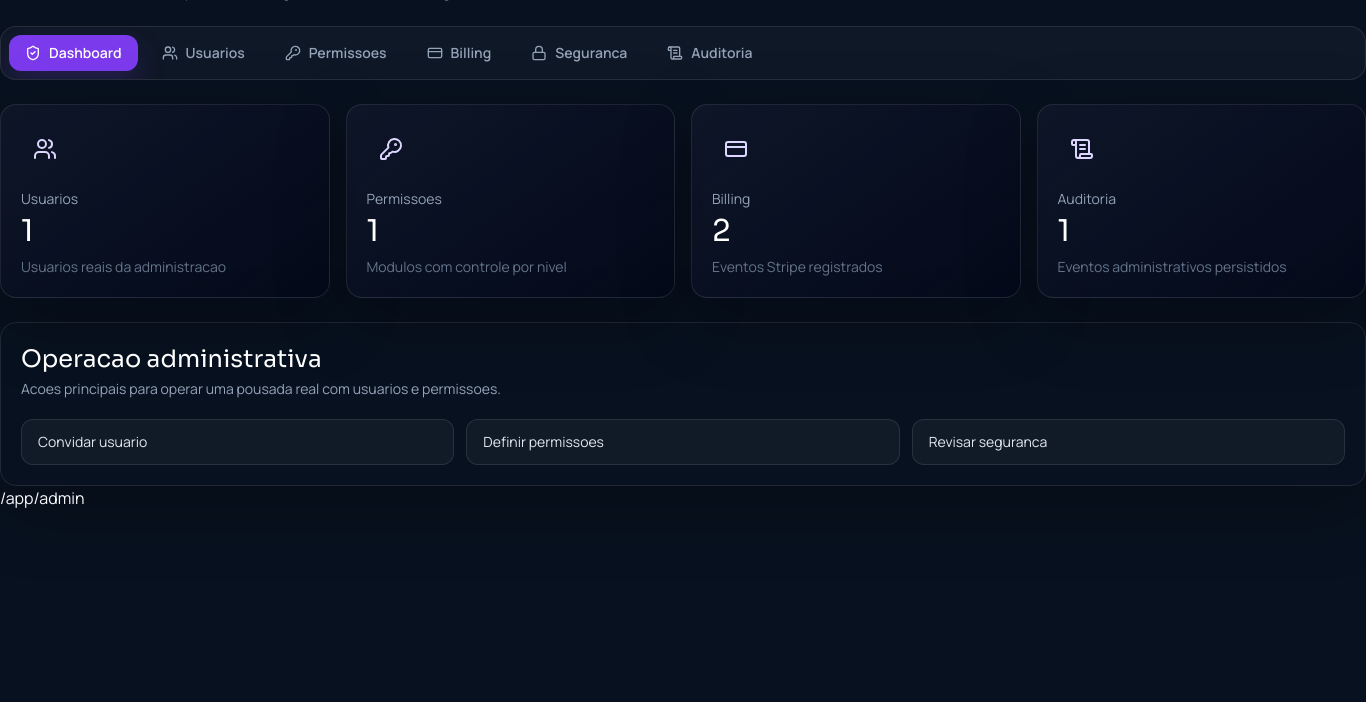
Test: AdminPage › navega pelos botoes principais usando a URL da Administracao
Expected: the heading "Operacao administrativa" is shown, [21,344,322,374]
What coordinates should you click on to do the following:
click the button "Billing"
I would click on:
 (459, 53)
Its box is [411,35,507,71].
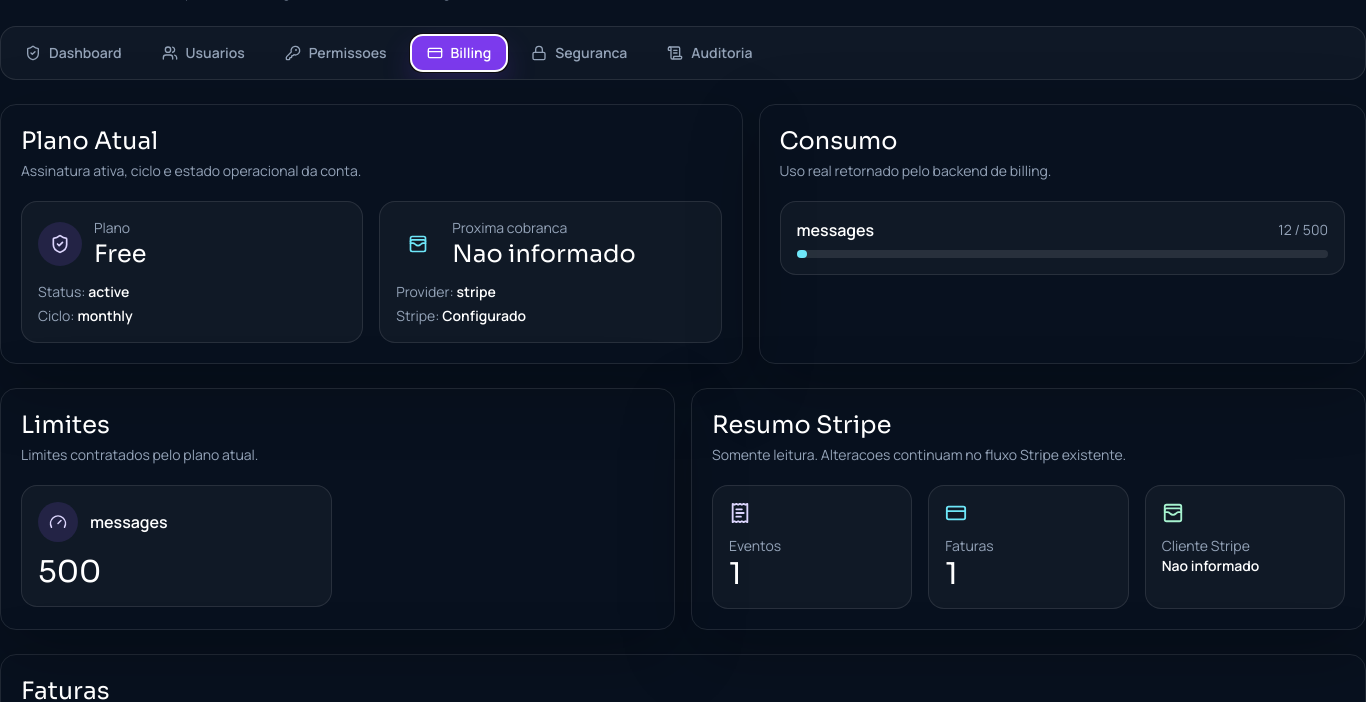
Expected: the heading "Plano Atual" is shown, [21,126,158,156]
Expected: the heading "Resumo Stripe" is shown, [712,410,891,440]
What coordinates should you click on to do the following:
click the button "Usuarios"
I would click on:
 (203, 53)
Its box is [146,35,261,71].
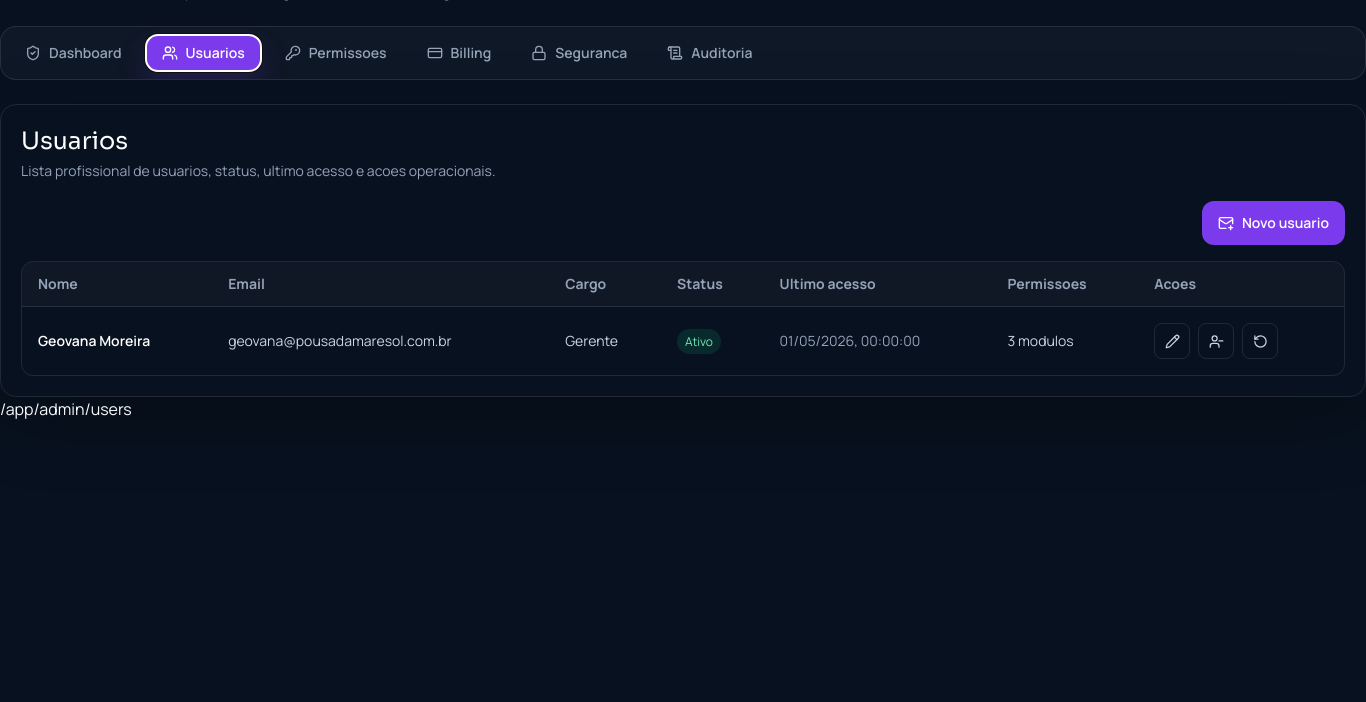
Expected: the text with test id "location" reads "/app/admin/users", [0,398,132,420]
Expected: the text "Geovana Moreira" is shown, [22,306,212,375]
What coordinates should you click on to do the following:
click the button "Novo usuario"
I would click on:
 (1273, 223)
Its box is [1202,201,1345,245].
(page scrolled)
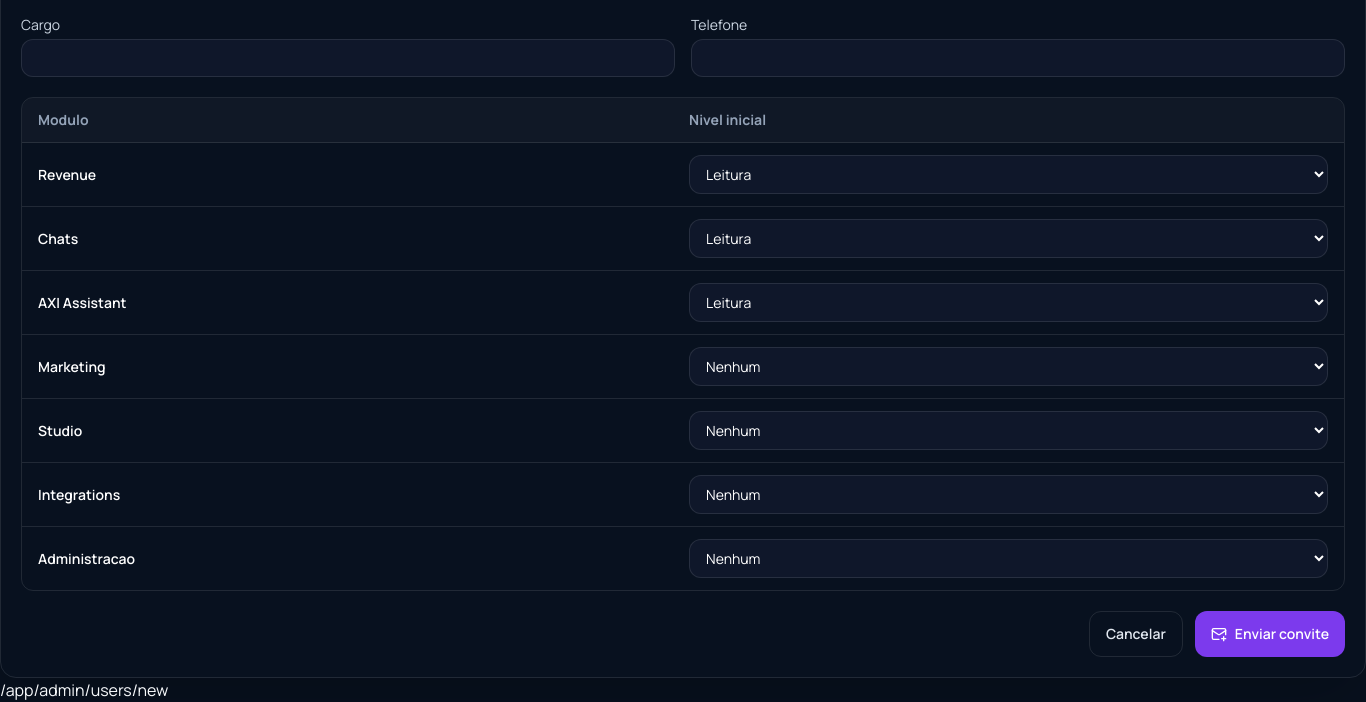
Expected: the text with test id "location" reads "/app/admin/users/new", [0,679,168,701]
What coordinates should you click on to do the following:
click the button "Cancelar"
I would click on:
 (1136, 634)
Its box is [1089,611,1183,657].
(page scrolled)
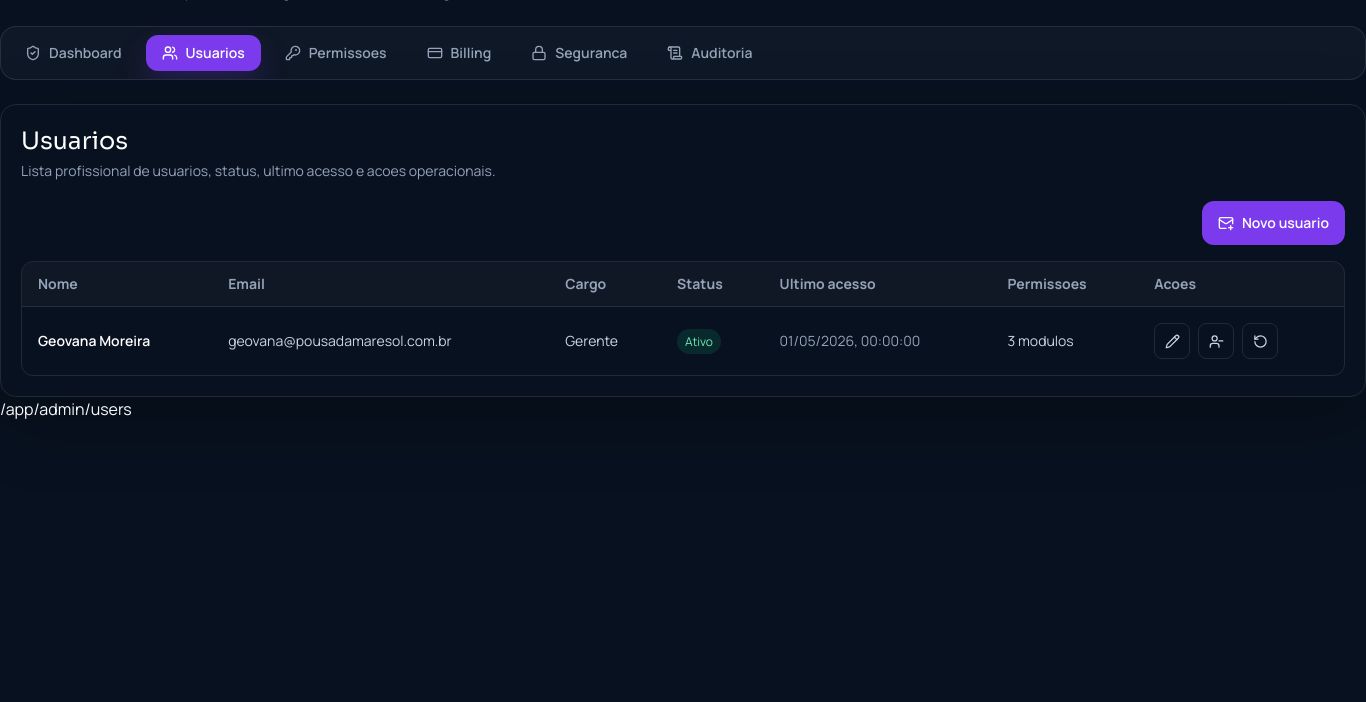
What coordinates should you click on to do the following:
click the button "Permissoes"
I would click on:
 (336, 53)
Its box is [269,35,403,71].
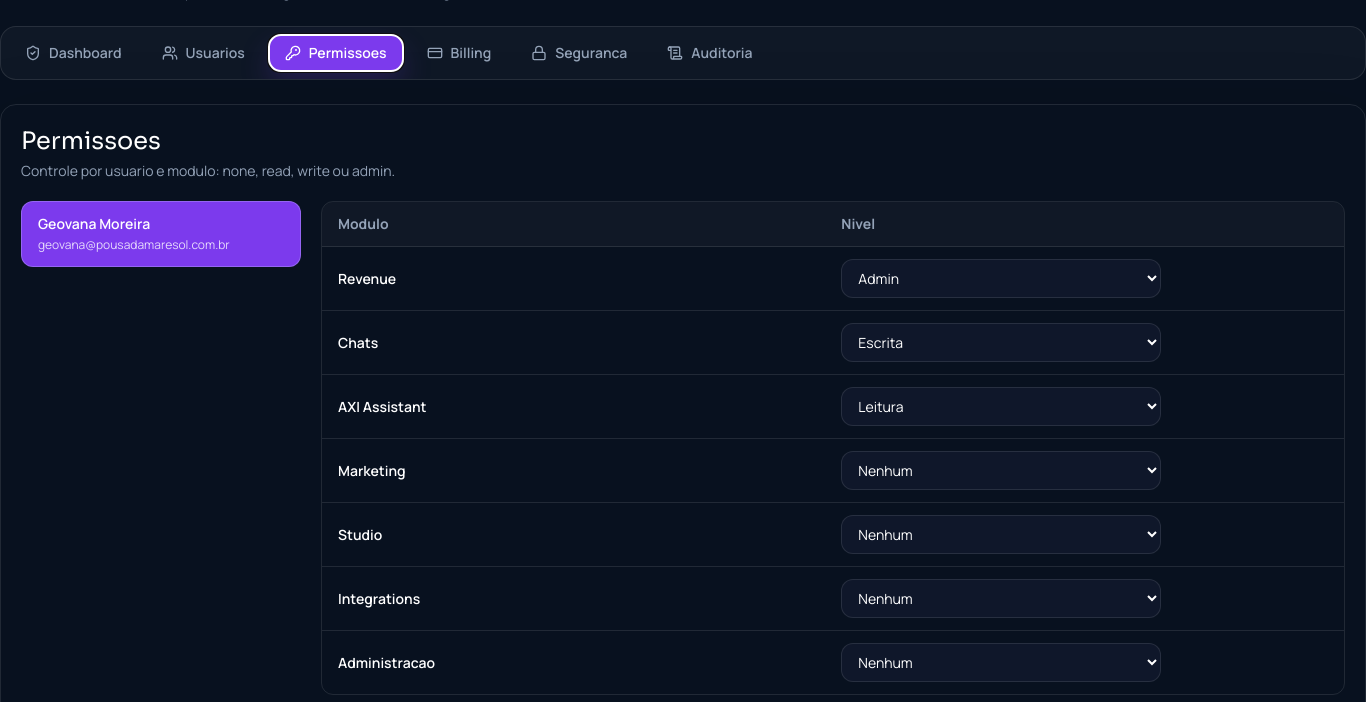
Expected: the text "AXI Assistant" is shown, [322,374,825,438]
